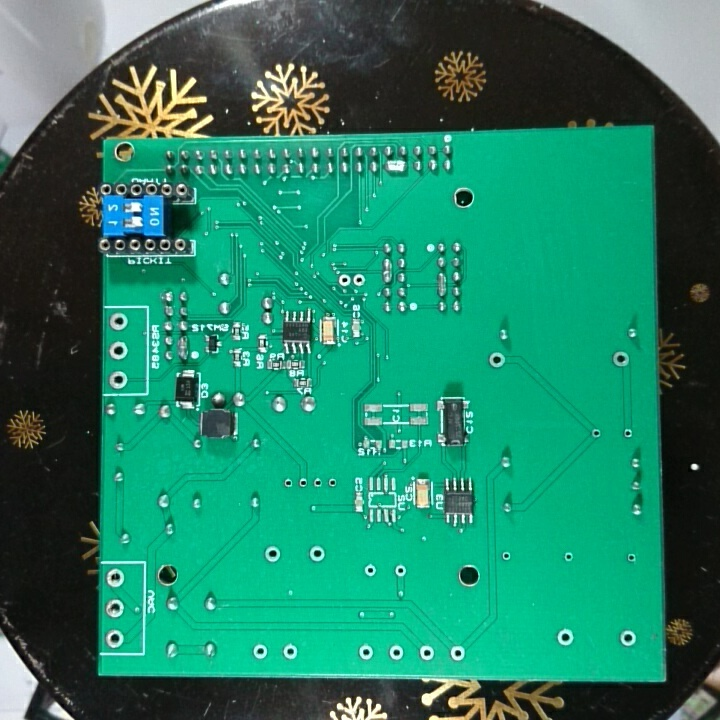F: (102, 628, 126, 652), (553, 626, 577, 648), (617, 628, 639, 651), (108, 369, 130, 392), (106, 340, 130, 361), (105, 566, 125, 591), (262, 543, 284, 565), (487, 349, 508, 372), (108, 311, 129, 334), (104, 598, 125, 620), (249, 641, 269, 663), (308, 543, 327, 565), (281, 640, 299, 663), (612, 349, 631, 370), (417, 643, 436, 663), (386, 643, 405, 663), (448, 643, 466, 663), (357, 642, 374, 662), (295, 474, 311, 494), (362, 562, 379, 580), (391, 562, 408, 580), (623, 549, 639, 568), (351, 272, 368, 289), (311, 474, 325, 493), (561, 549, 577, 565), (588, 426, 603, 443), (336, 272, 351, 289), (499, 549, 514, 565), (325, 475, 339, 491), (281, 477, 294, 492), (621, 426, 633, 441)
P: (435, 269, 450, 300), (381, 158, 408, 175), (174, 333, 189, 363), (379, 255, 393, 284)
